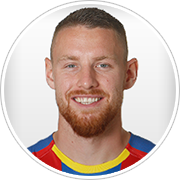smile: (72, 94, 104, 105)
